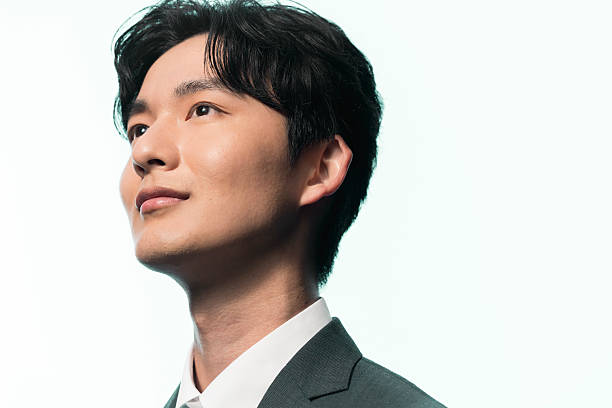Male: (78, 2, 432, 408)
